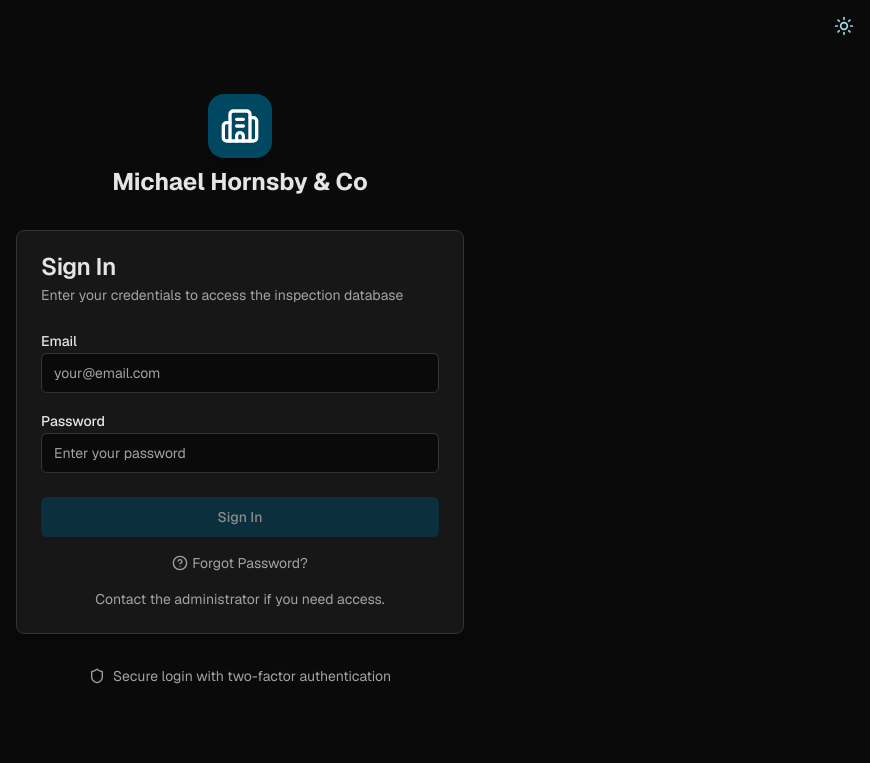
Scenario: Login Page › shows error message on invalid credentials
Type "test@test.com" into the field labelled "Email".
click(240, 373); type("test@test.com")  # box [41,353,439,393]
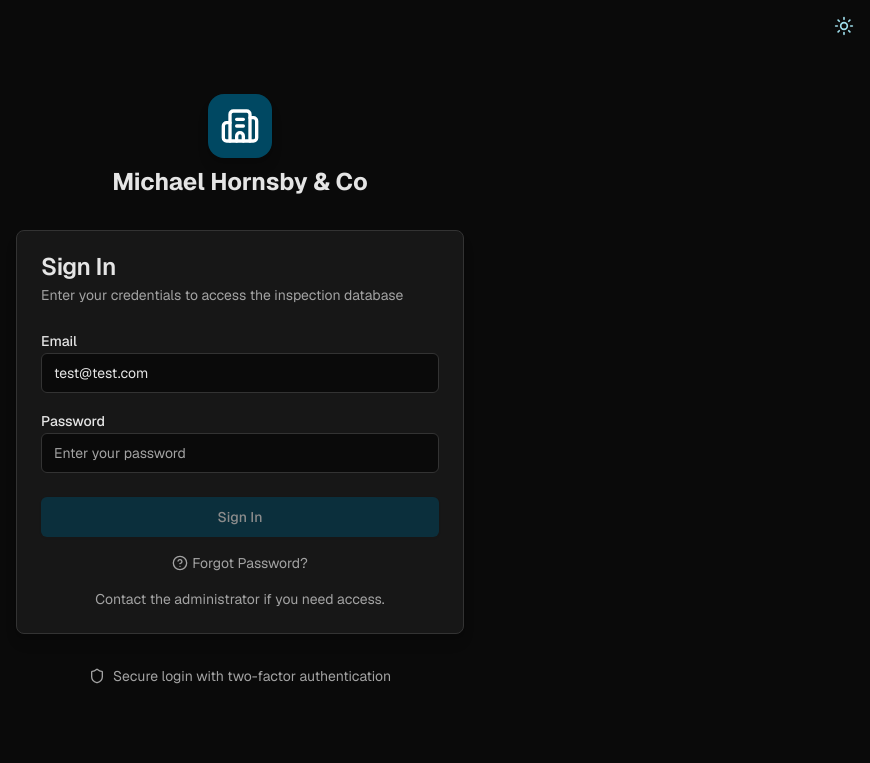
Type "wrongpassword" into the password field labelled "Password".
click(240, 453); type("wrongpassword")  # box [41,433,439,473]
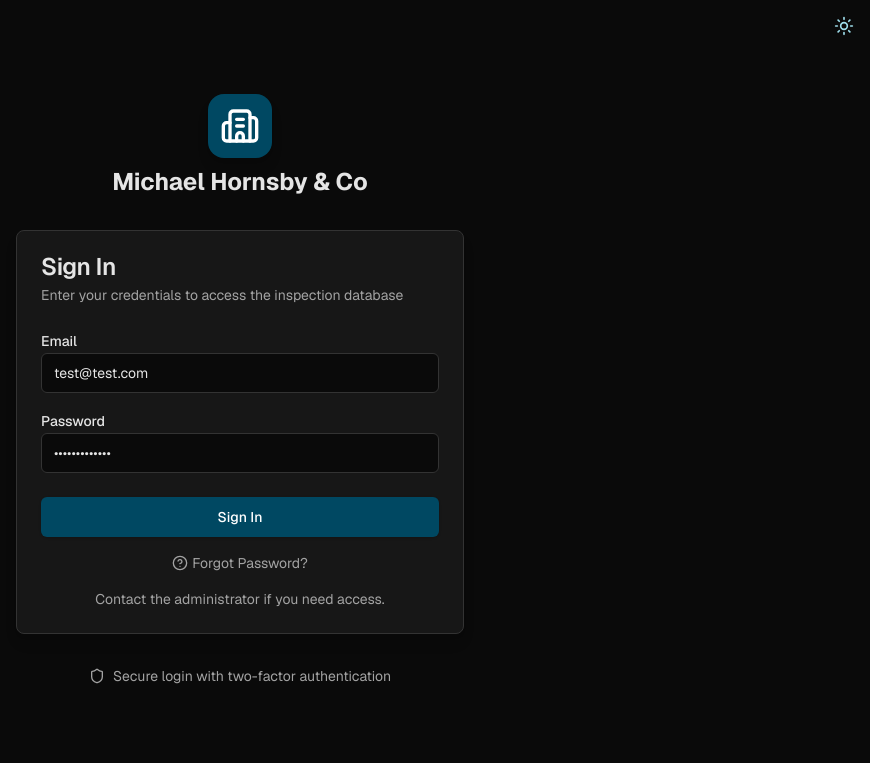
Click the button "Sign In".
click(240, 517)  # box [41,497,439,537]
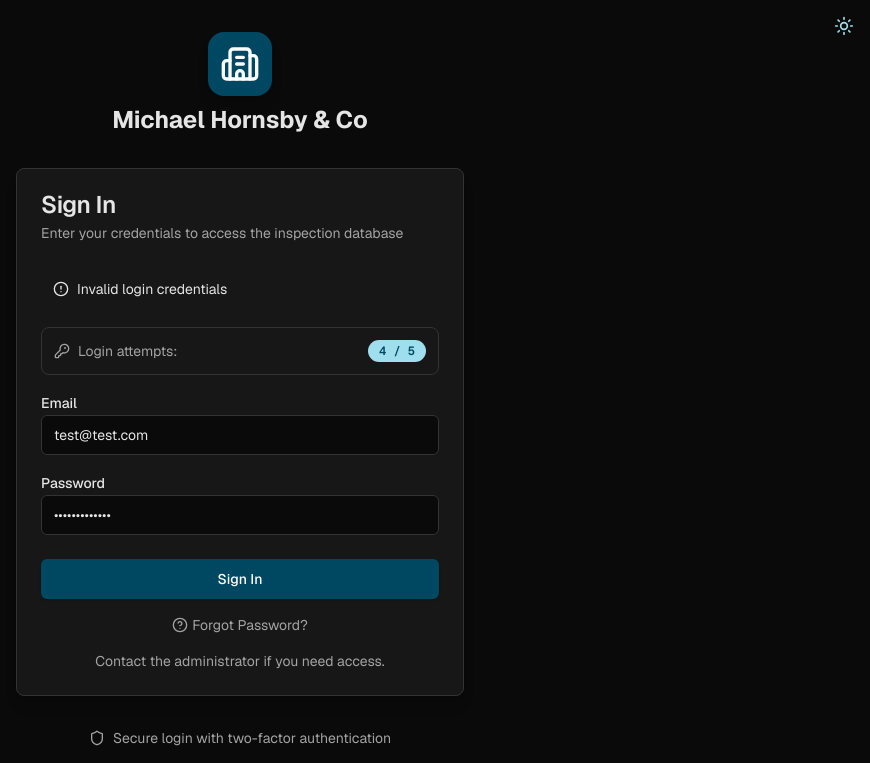
Now the text "Invalid login credentials" is shown, box [77,279,227,299]
